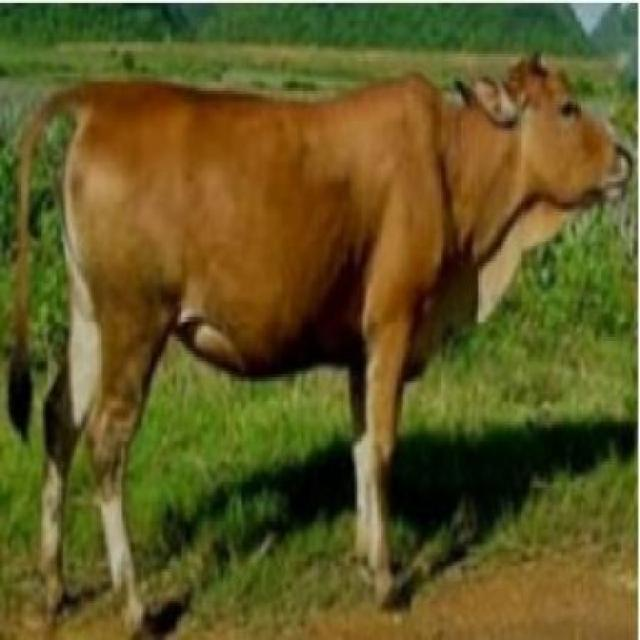Cow: (8, 54, 632, 637)
